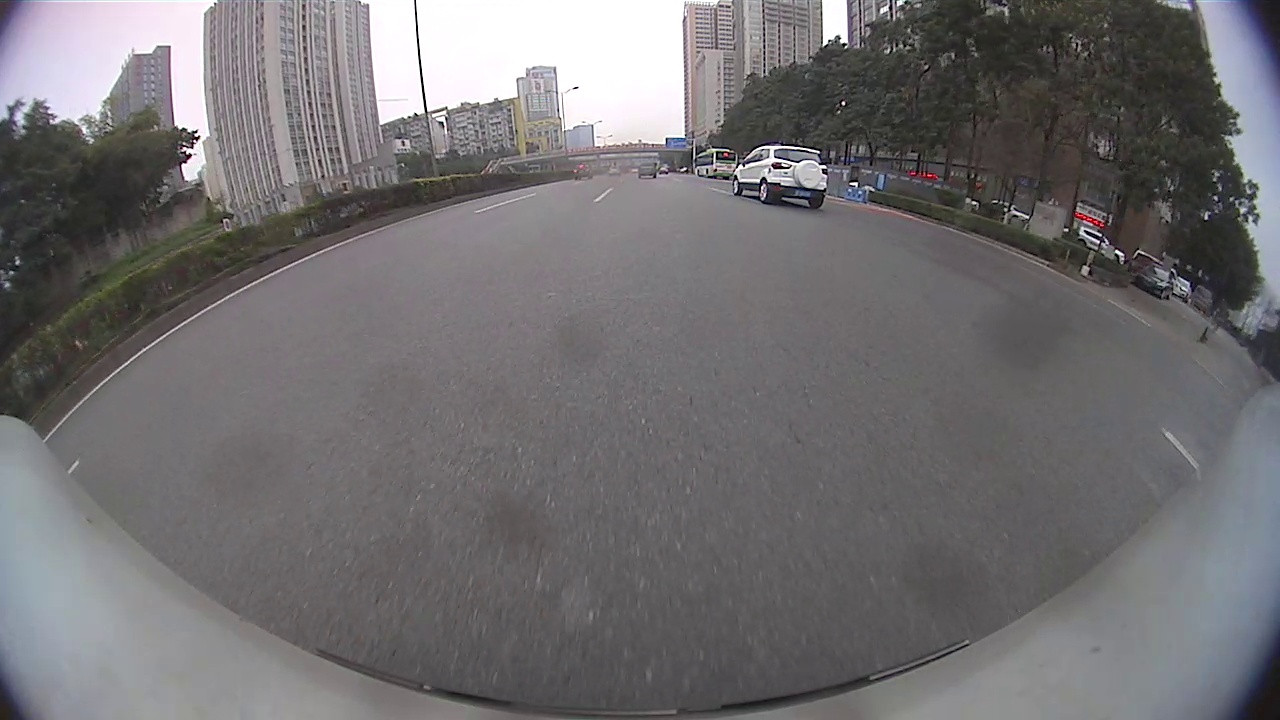bus: (693, 149, 739, 180)
car: (731, 144, 829, 208), (1072, 223, 1126, 265), (1133, 266, 1177, 300), (989, 198, 1033, 224), (570, 163, 594, 180), (638, 162, 658, 179)
front: (729, 175, 743, 194)
rear: (758, 181, 773, 204)
